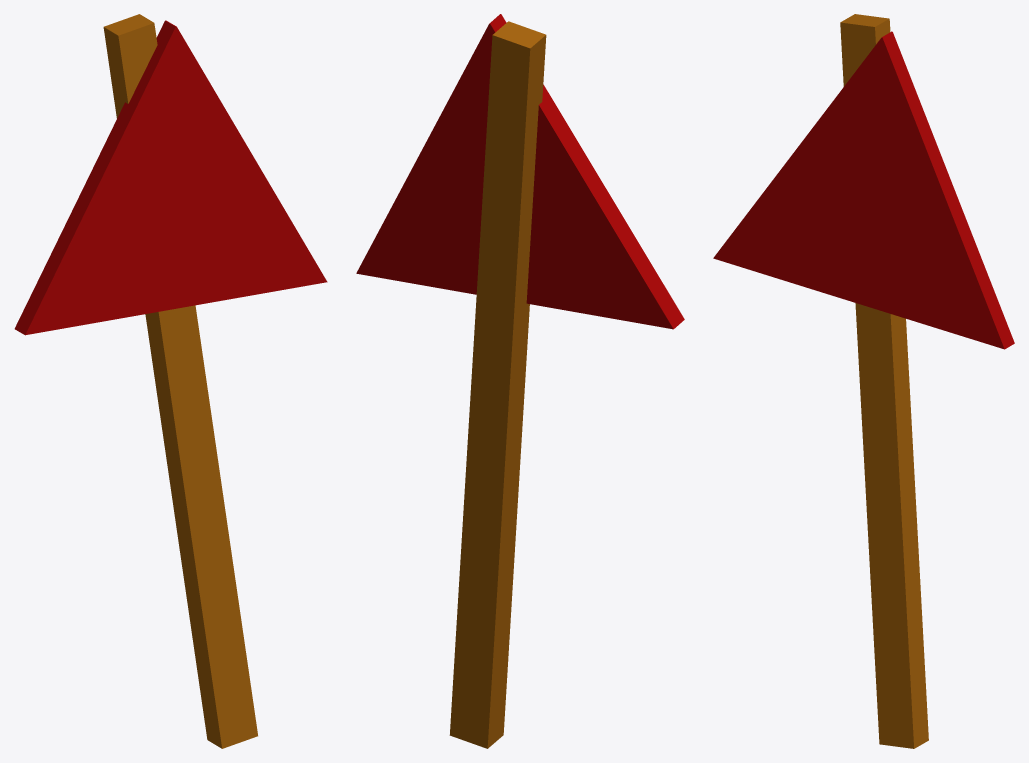
File: senal.FBX
3 views of the same model, side by side, from view 1: azimuth 30°, elevation 25°; view 2: azimuth 150°, elevation 25°; view 3: azimuth 330°, elevation 25° (orthographic). The views are drawn at different scales.
Visible parts, largest first — view 1: Box031; view 2: Box031; view 3: Box031.
Part boxes in pixels (x1,y1,x2,y2): Box031: [14, 14, 327, 748]; Box031: [356, 14, 684, 748]; Box031: [713, 14, 1014, 748].
Size of the model in its own units: 7.37 by 16.63 by 1.97.
